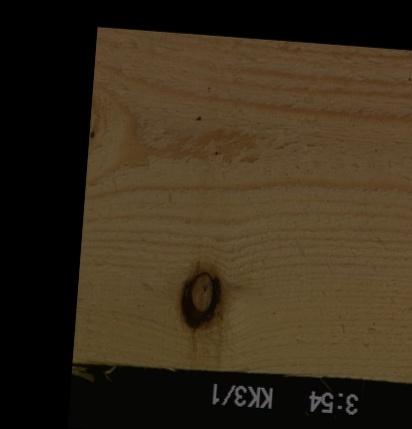small_knot: (88, 128, 96, 139)
